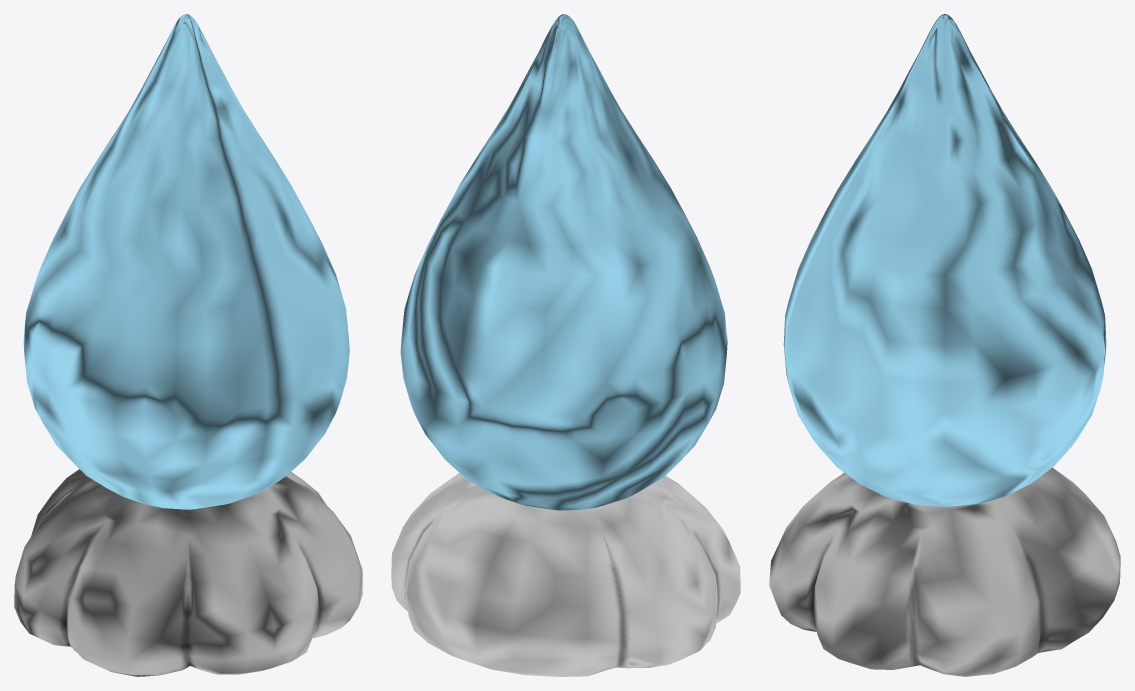
Rendered from XY_CastformRainy.obj.
The picture shows the model from 3 angles, left to right: view 1: azimuth 30°, elevation 25°; view 2: azimuth 150°, elevation 25°; view 3: azimuth 270°, elevation 25°; orthographic projection.
Visible parts, largest first — view 1: CastformRainy; view 2: CastformRainy; view 3: CastformRainy.
Part boxes in pixels (box(x1,y1,x2,y2)): CastformRainy: box(14, 14, 362, 676); CastformRainy: box(391, 14, 740, 676); CastformRainy: box(769, 14, 1120, 676).
Bounding box in the file's own units: 22.24 × 42.25 × 22.33.
